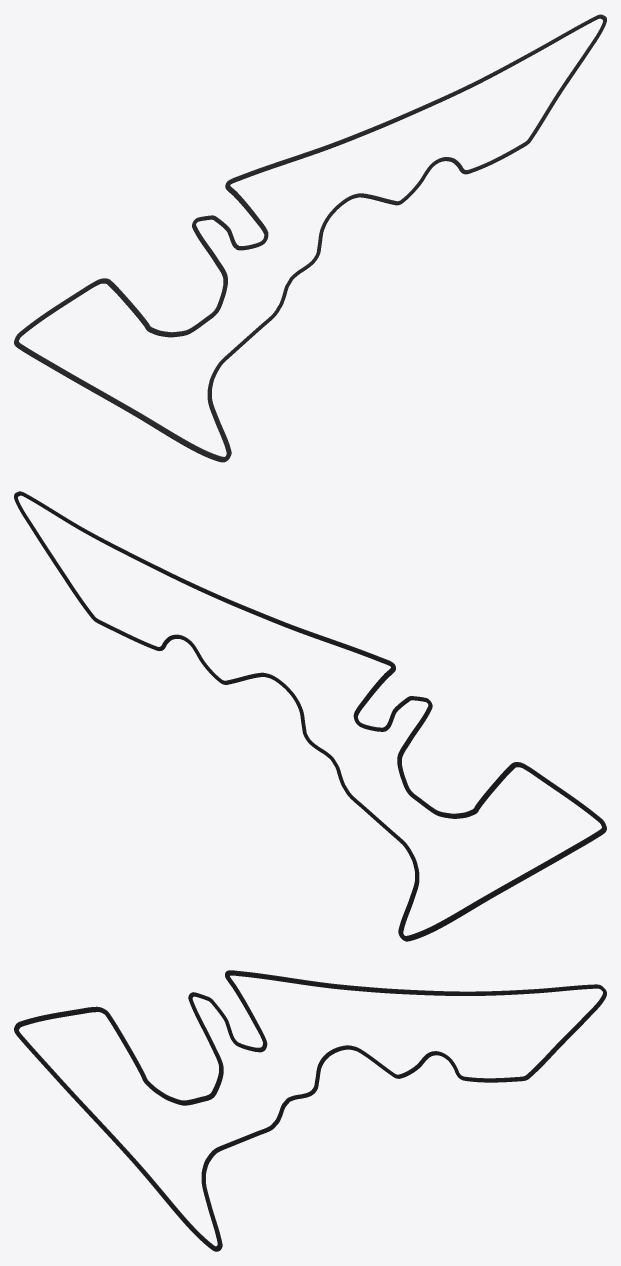
File: road_textured.obj
3 views of the same model, one above another, from view 1: azimuth 30°, elevation 25°; view 2: azimuth 150°, elevation 25°; view 3: azimuth 330°, elevation 25° (orthographic).
Visible parts, largest first — view 1: URRC; view 2: URRC; view 3: URRC.
Part boxes in pixels (x1,y1,x2,y2): URRC: (14, 14, 606, 462); URRC: (14, 491, 606, 941); URRC: (14, 970, 606, 1251).
Size of the model in its own units: 369 by 212 by 6.32.
1 material, 1 textured.
